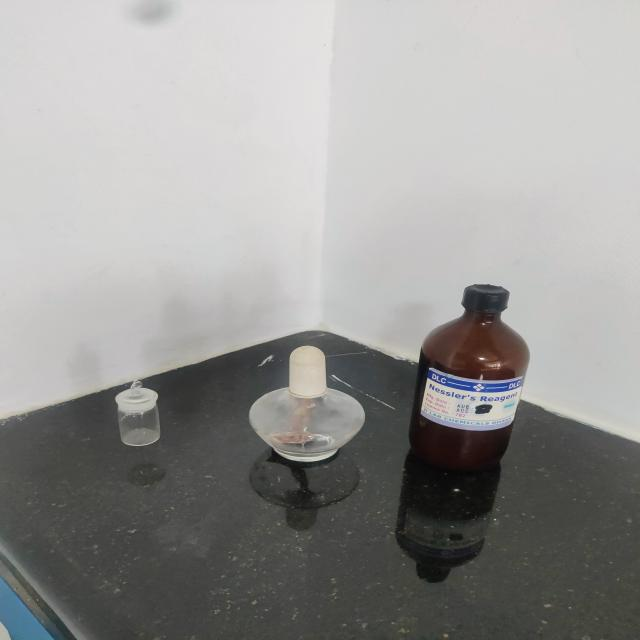Nessler_Reagent_Bottle: (399, 267, 546, 496)
Spirit_Lamp: (232, 338, 377, 487)
Weighing_Bottle: (98, 374, 170, 454)
